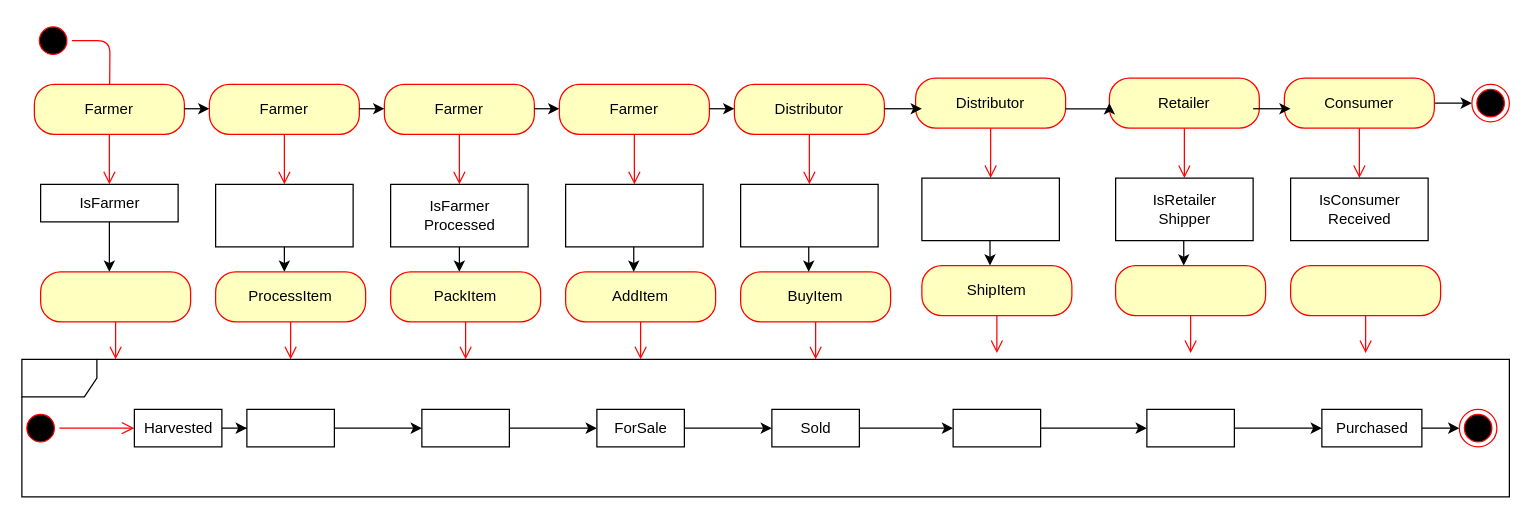
This 1531x519 diagram has some shape labels left out. The centre of each missing label's shape, as x and y in pixels:
"HarvestItem" belongs at pixel 115 296.
"IsDistributor ForSale" belongs at pixel 808 215.
"IsDistributor Sold" belongs at pixel 990 209.
"IsFarmer Harvested" belongs at pixel 283 215.
"IsFarmer Packed" belongs at pixel 633 215.
"Packed" belongs at pixel 465 427.
"Processed" belongs at pixel 290 427.
"PurchaseItem" belongs at pixel 1365 290.
"Recieved" belongs at pixel 1190 427.
"RecieveItem" belongs at pixel 1190 290.
"Shipped" belongs at pixel 996 427.
